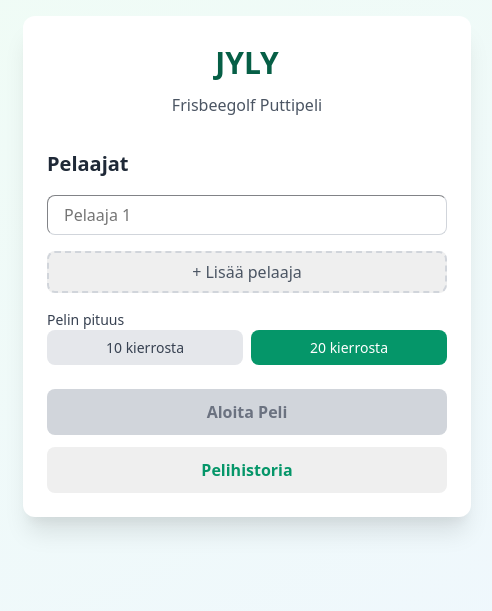
JYLY Components › GameSetup Component › should allow adding and removing players
Expected: the number of fields is 1, [47, 195, 447, 235]
Lisää pelaaja
Click the button "+ Lisää pelaaja" at coordinates (247, 272), box [47, 251, 447, 293]
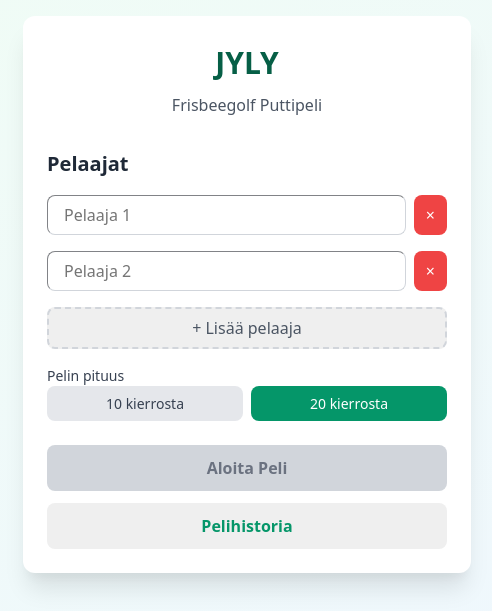
Now the number of fields is 2, box [47, 195, 406, 235]; [47, 251, 406, 291]
Now the field with placeholder "Pelaaja 2" is shown, box [47, 251, 406, 291]
Now the number of buttons "×" is 2
Click the 1st button "×" at coordinates (430, 215), box [414, 195, 447, 235]
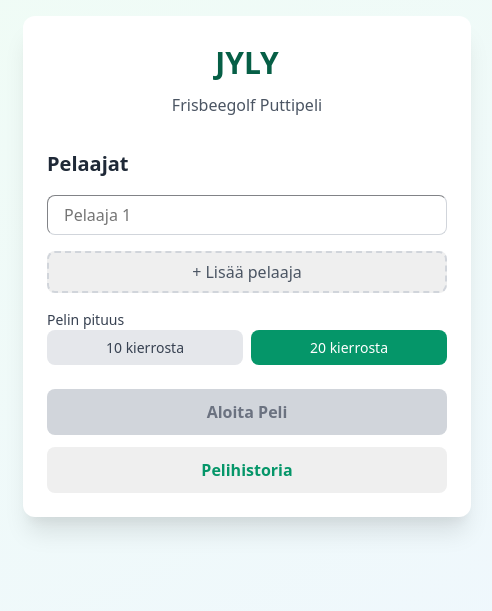
Now the number of fields is 1, box [47, 195, 447, 235]
